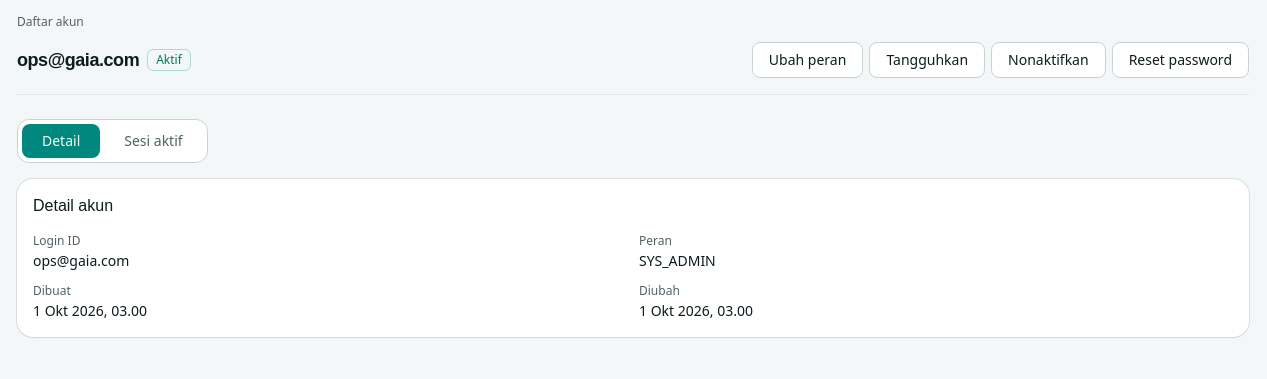
Test: Sesi aktif tab (D4.10) › lists the sessions of that user
The width and height of the screenshot is (1267, 379).
Expected: the heading "ops@gaia.com" is shown, [17, 46, 139, 74]
Click the tab "Sesi aktif". click: (154, 141)
box: [104, 124, 203, 158]
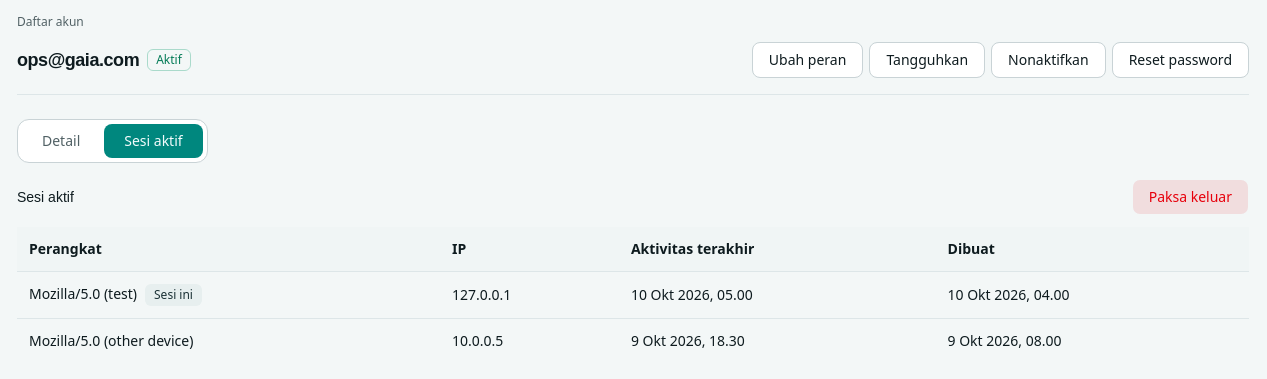
Expected: the text "10.0.0.5" is shown, [440, 318, 619, 362]
